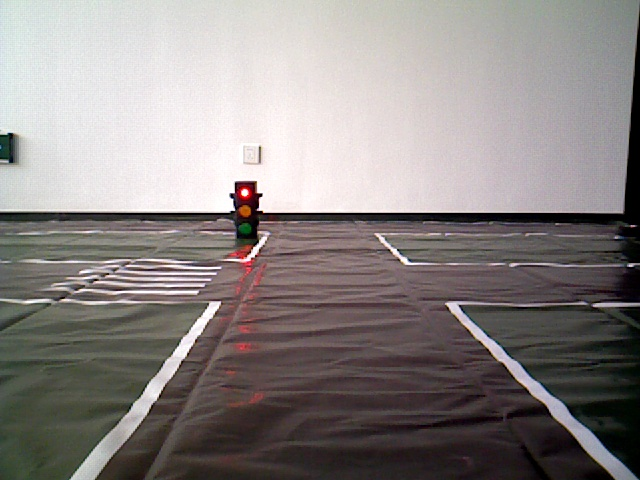red: (233, 183, 257, 241)
